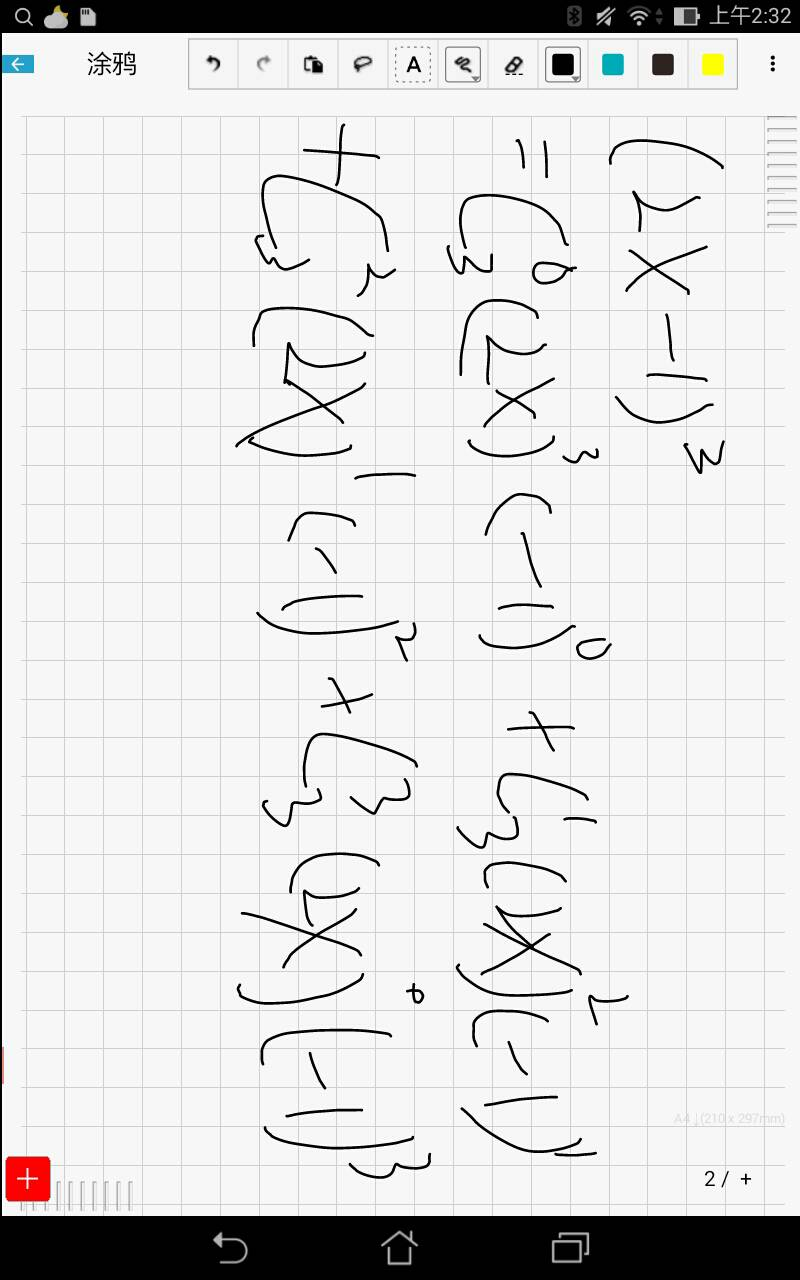cube: (331, 1153, 437, 1189), (677, 432, 731, 478), (556, 445, 605, 465)
